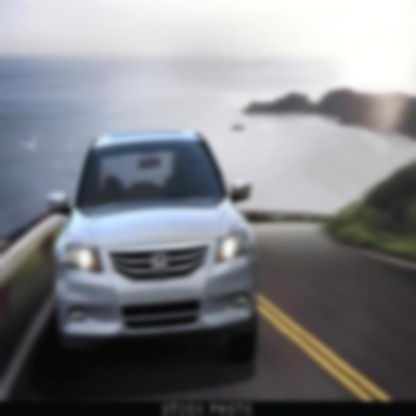Vehicle: (47, 134, 259, 364)
